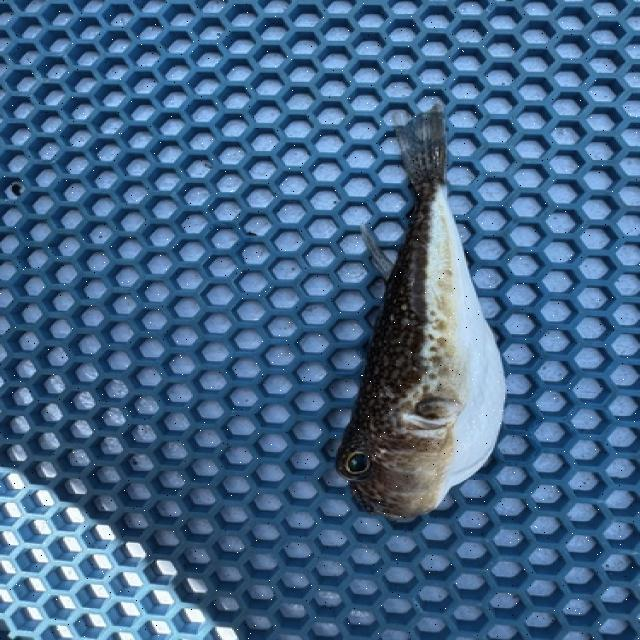Balik: (337, 105, 505, 518)
